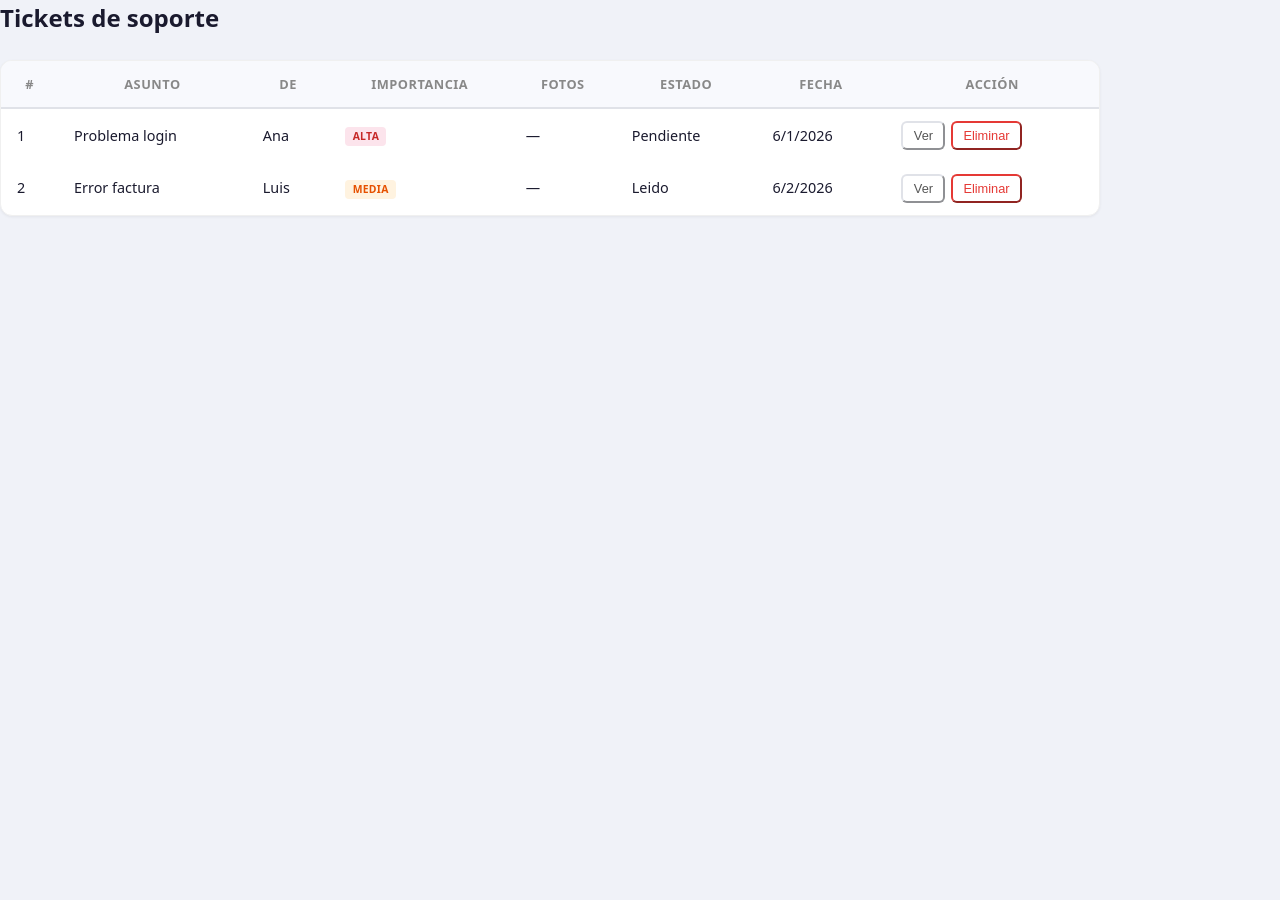
TicketsAdmin › opens detail modal on Ver click
This screenshot has width=1280, height=900.
Expected: the text "Problema login" is shown, [58, 109, 247, 162]
Click the button "Ver" in the row of "Problema login" at [923, 136], box [901, 121, 945, 150]
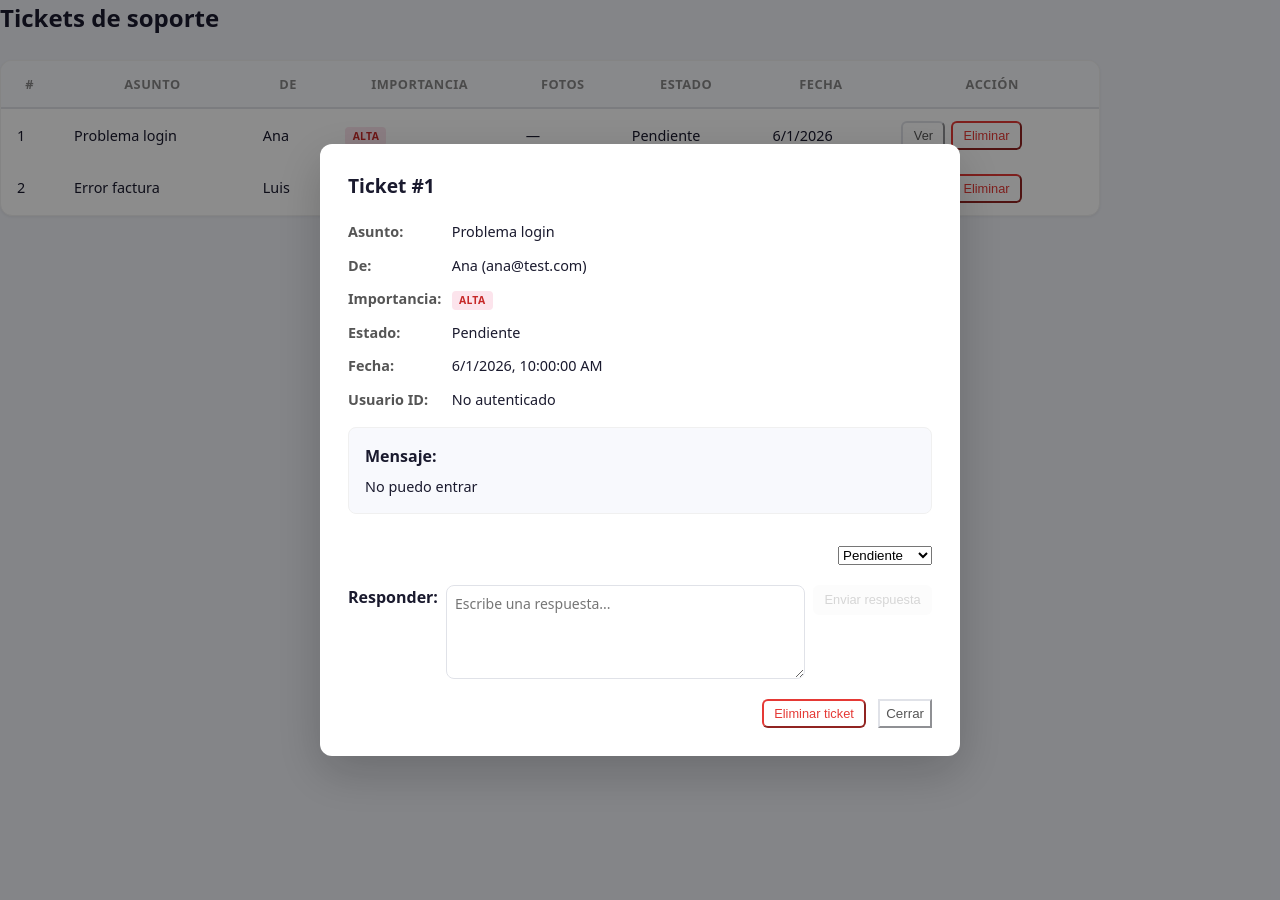
Expected: the text "No puedo entrar" is shown, [365, 477, 477, 496]
